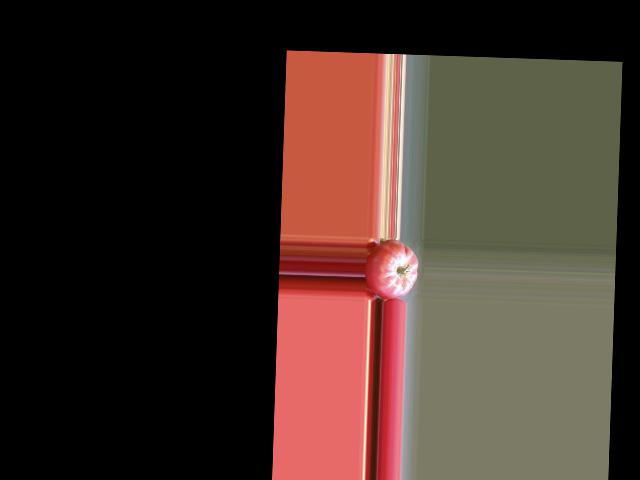tomato: (363, 238, 418, 299)
